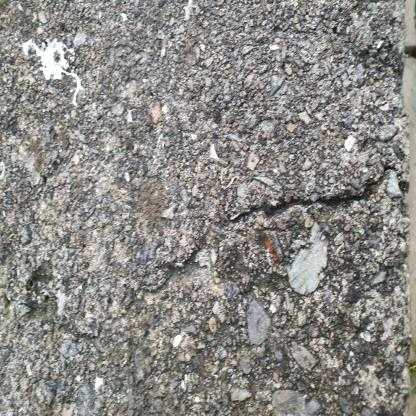crack: (235, 182, 377, 224)
